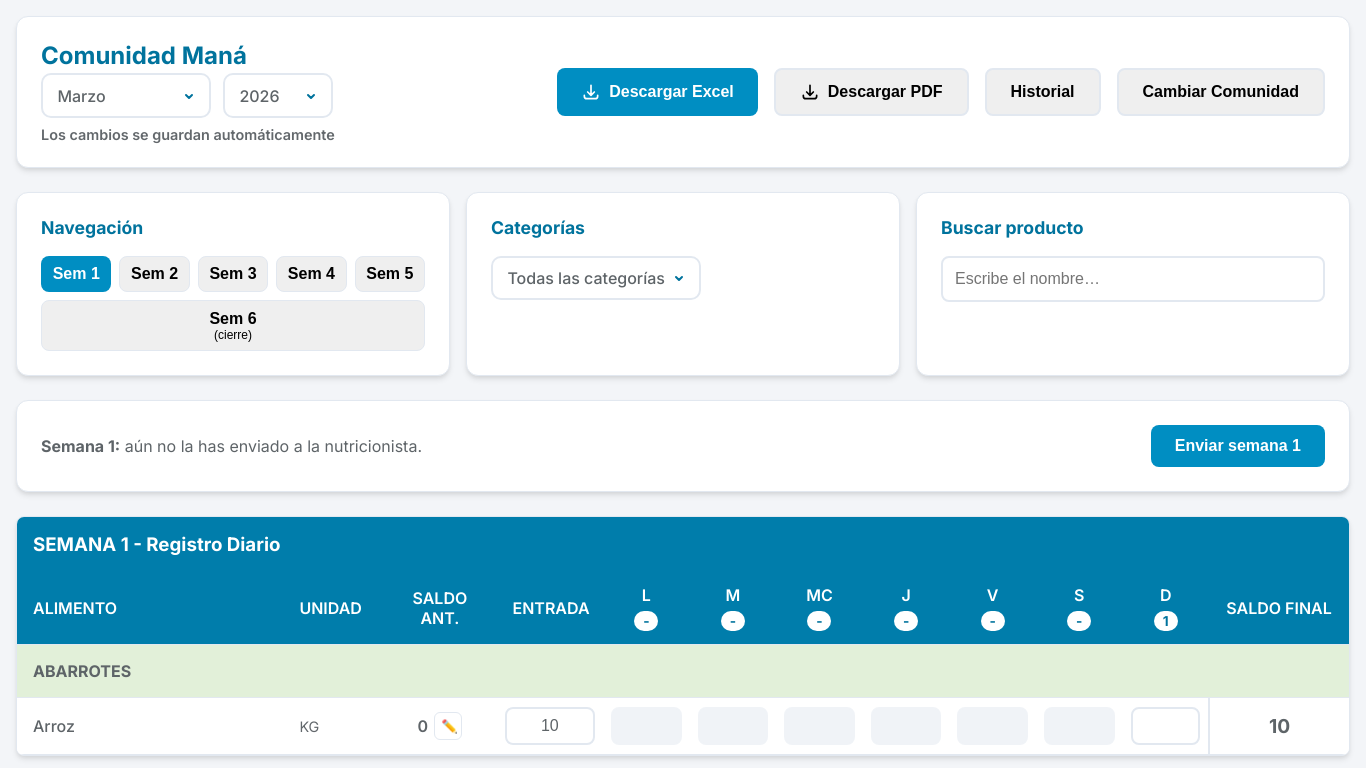
Scenario: kardex: toast al corregir un saldo › si no se pudo guardar el ajuste, avisa con un error (antes fallaba en silencio)
Click the button named "Corregir saldo anterior de Arroz". click: [448, 726]
box: [434, 712, 462, 740]
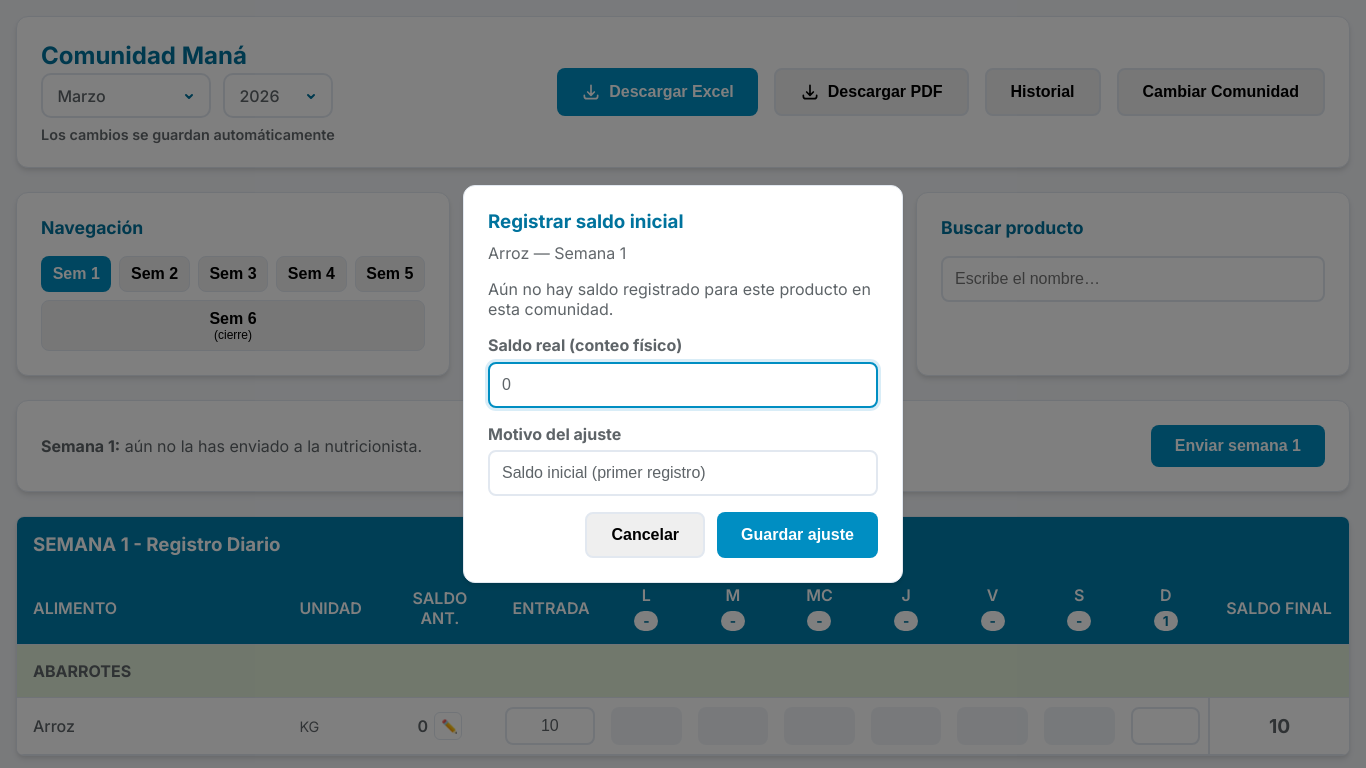
Replace the text in the number field with "7". click: [683, 385]
box: [488, 362, 878, 408]
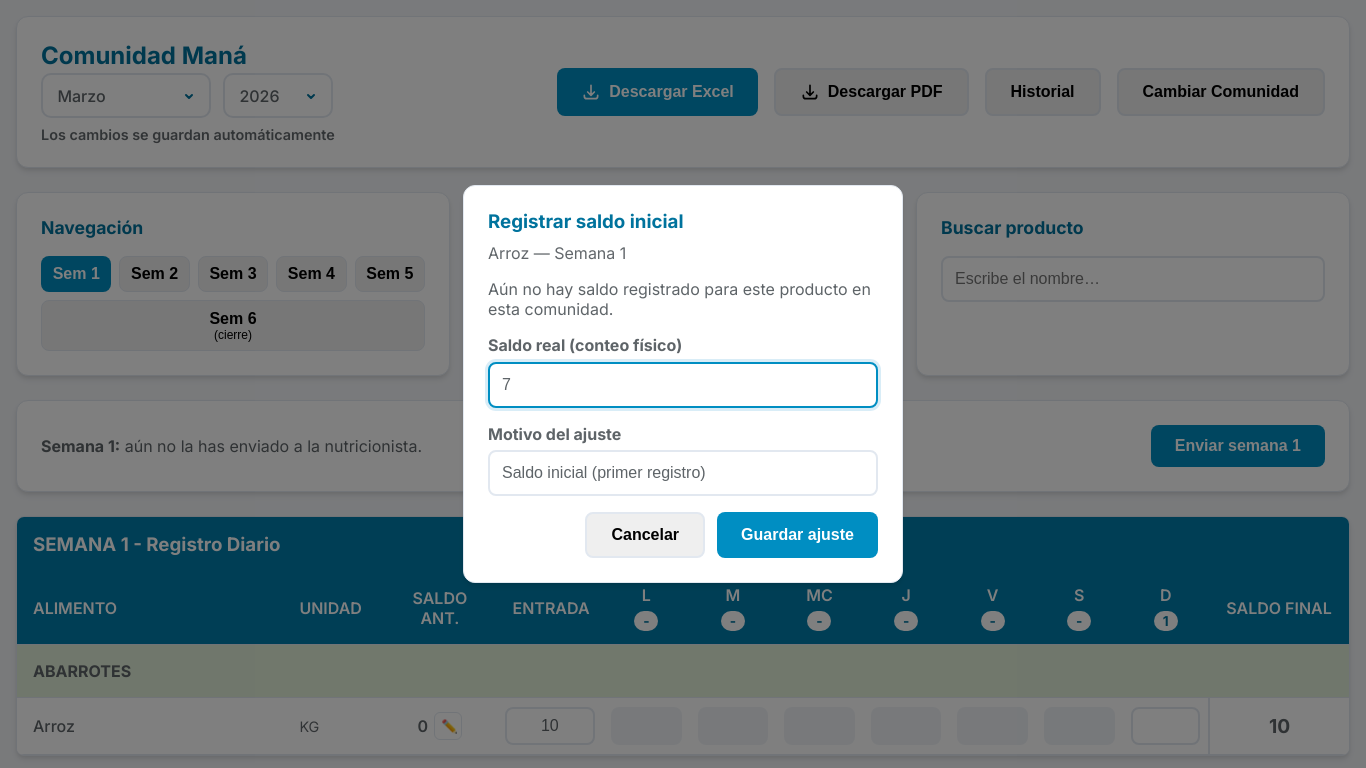
Replace the text in the field with placeholder "conteo físico, producto dañado" with "conteo físico". click: [683, 473]
box: [488, 450, 878, 496]
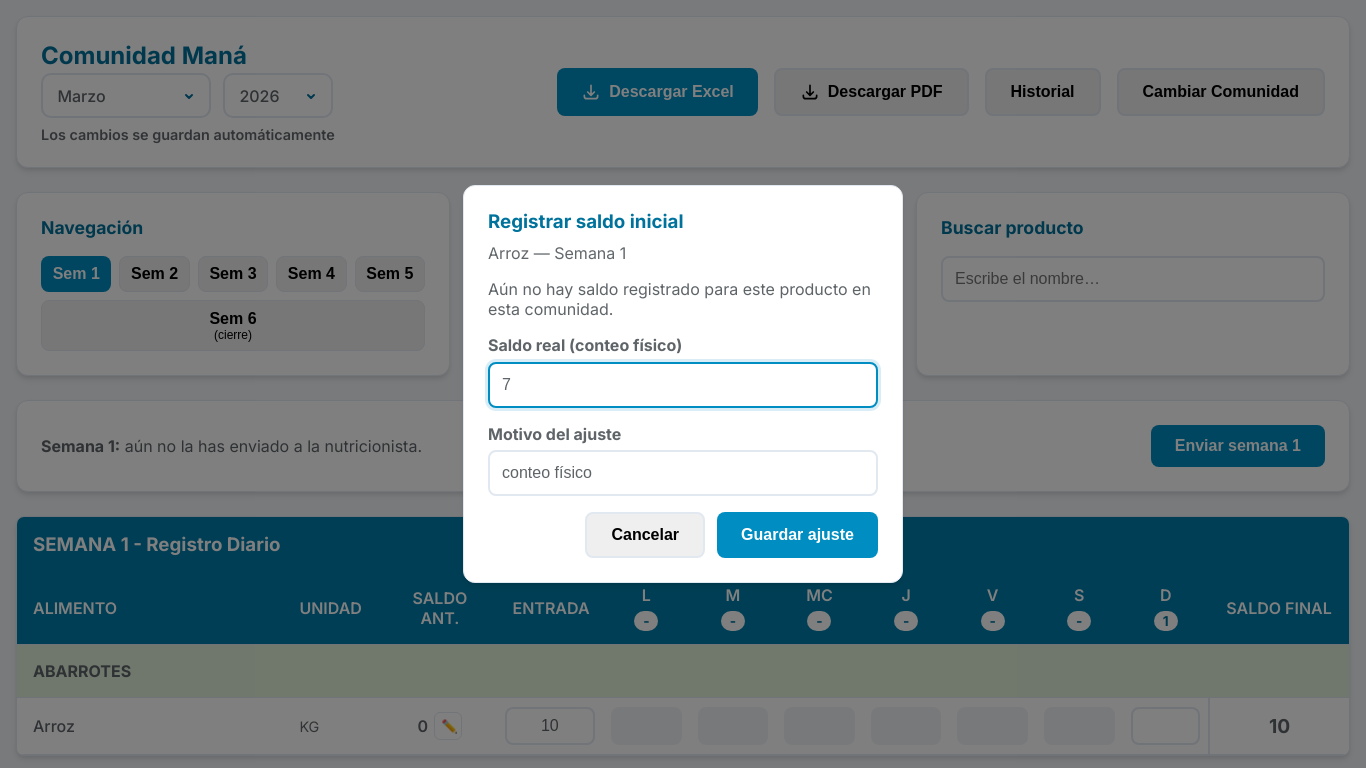
Click the button "Guardar ajuste". click: [798, 535]
box: [717, 512, 878, 558]
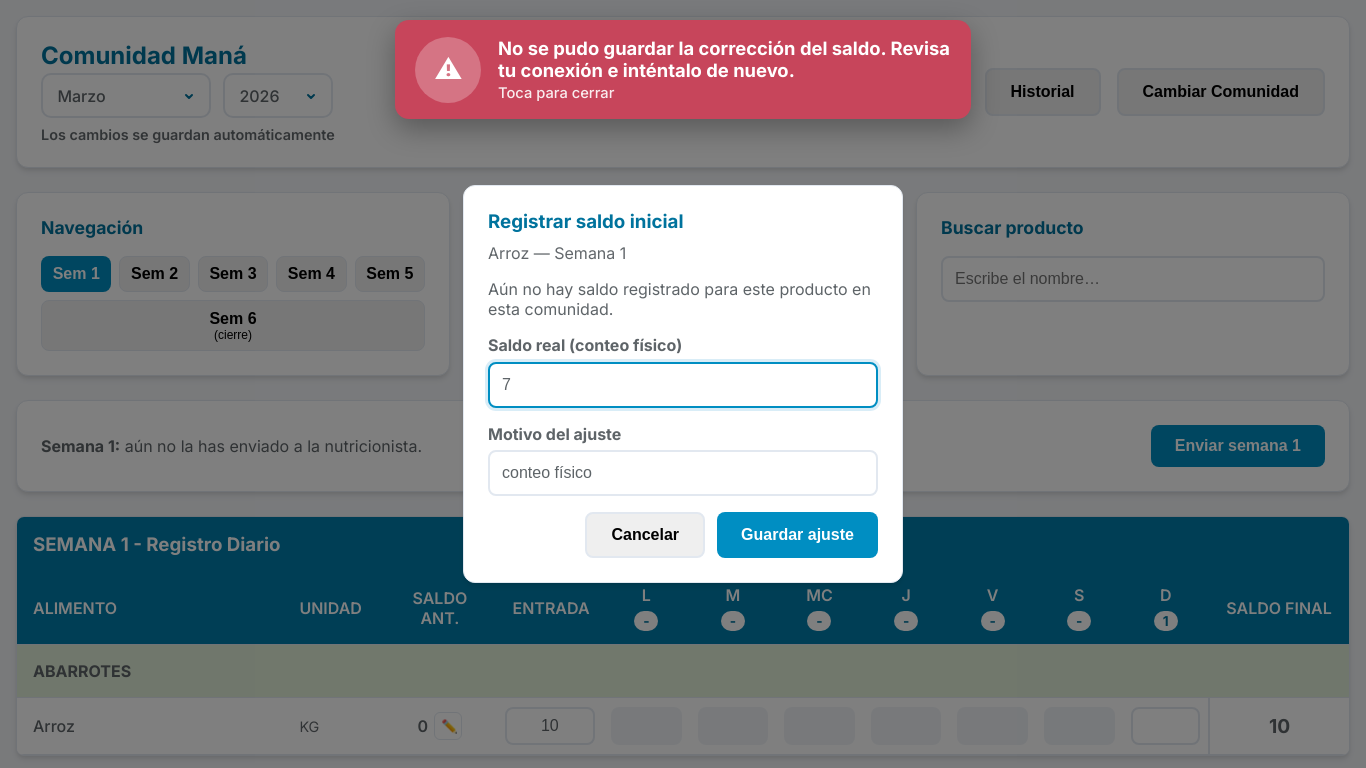
Now the button with class "toast" is shown, box [395, 20, 971, 119]
